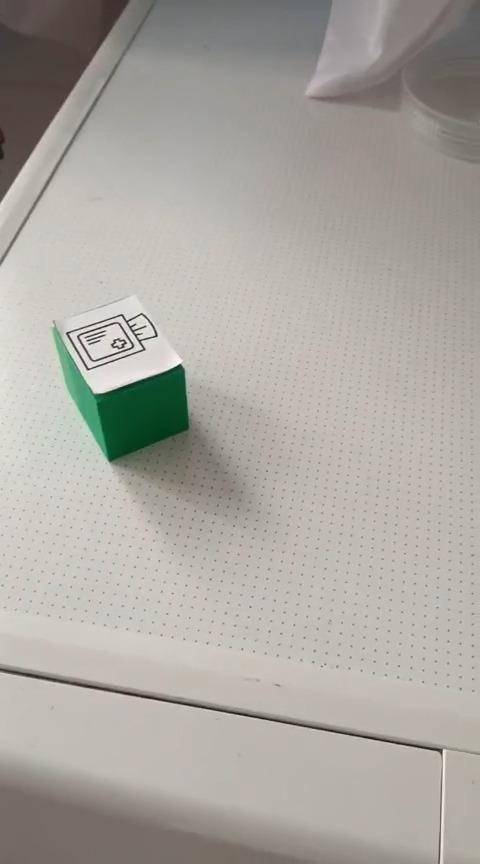Gauze: (50, 293, 189, 463)
